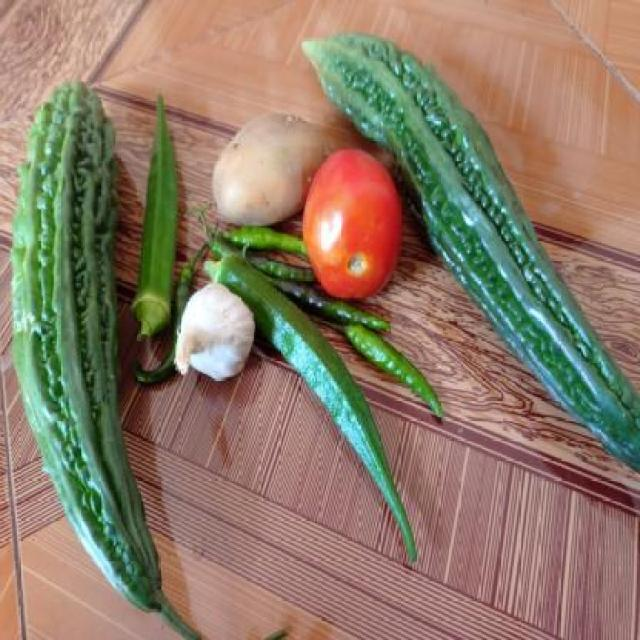Bitter melon: (3, 60, 148, 635)
Garlic: (168, 286, 258, 391)
Green Chili: (336, 298, 462, 428)
Lady finger: (132, 74, 183, 341)
Potato: (198, 108, 324, 226)
Tomato: (297, 150, 406, 292)
